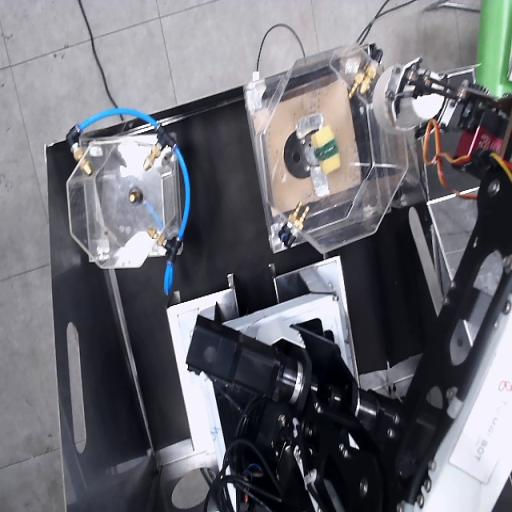cup in wash station: (374, 58, 446, 132)
